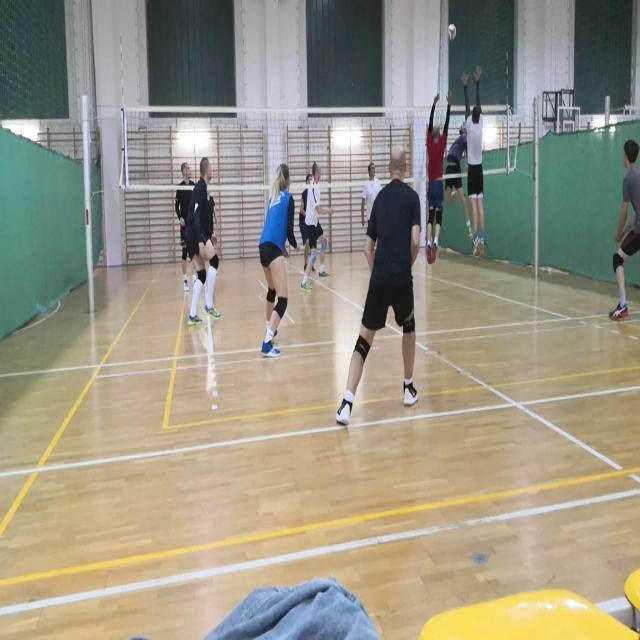volleyball: (447, 24, 456, 40)
